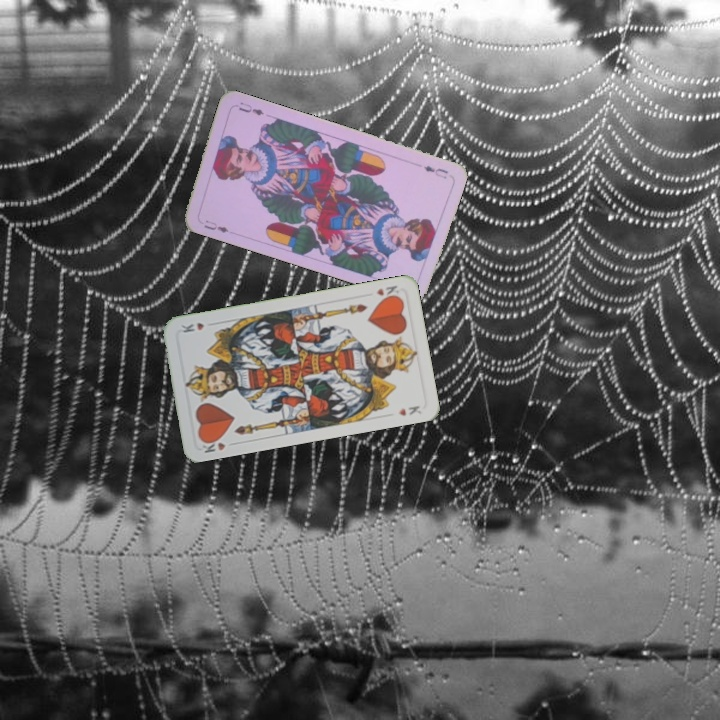EU: (420, 161, 451, 181), (200, 216, 231, 235)
HK: (198, 434, 238, 456), (372, 281, 401, 302)
